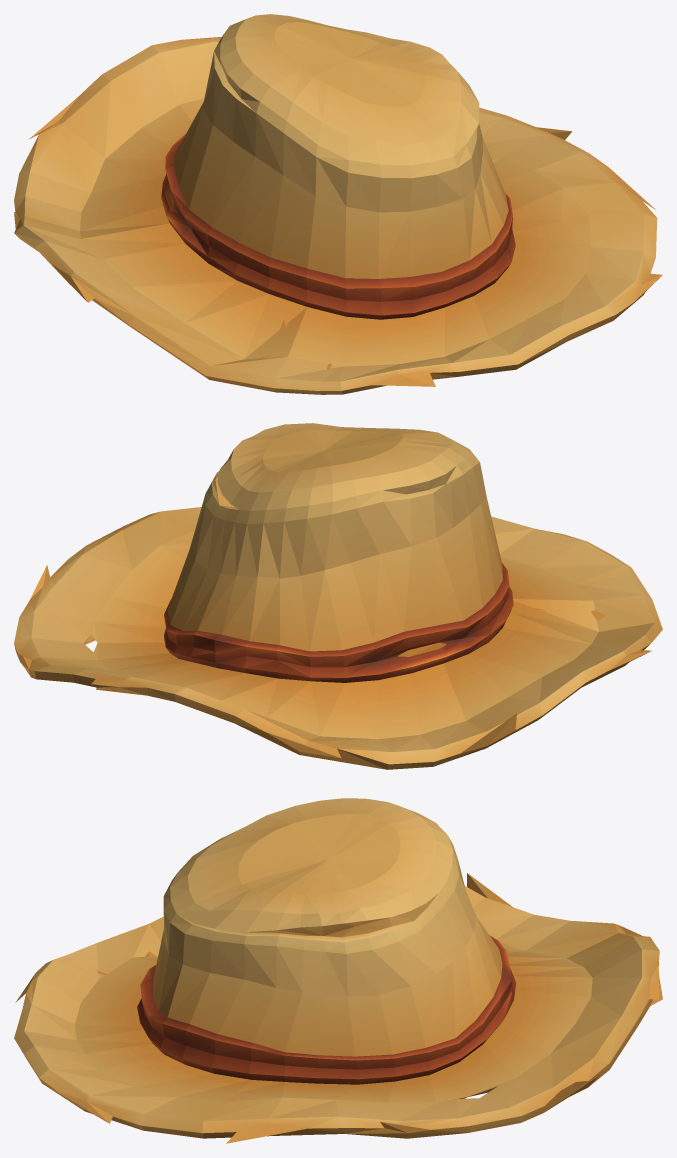
Rendered from CharSkyKid_Hat_AP07StrawHatNoCrab.glb.
The picture shows the model from 3 angles, top to bottom: view 1: azimuth 30°, elevation 25°; view 2: azimuth 150°, elevation 25°; view 3: azimuth 270°, elevation 25°; orthographic projection. The views are drawn at different scales.
Parts seen in each view (by area): view 1: CharSkyKid_Hat_AP07StrawHatNoCrab; view 2: CharSkyKid_Hat_AP07StrawHatNoCrab; view 3: CharSkyKid_Hat_AP07StrawHatNoCrab.
Part boxes in pixels (<box>): CharSkyKid_Hat_AP07StrawHatNoCrab: <box>14,14,662,394</box>; CharSkyKid_Hat_AP07StrawHatNoCrab: <box>14,423,662,769</box>; CharSkyKid_Hat_AP07StrawHatNoCrab: <box>14,798,662,1143</box>.
Size of the model in its own units: 5.84 by 2.22 by 6.29.
1 material, 1 textured.
